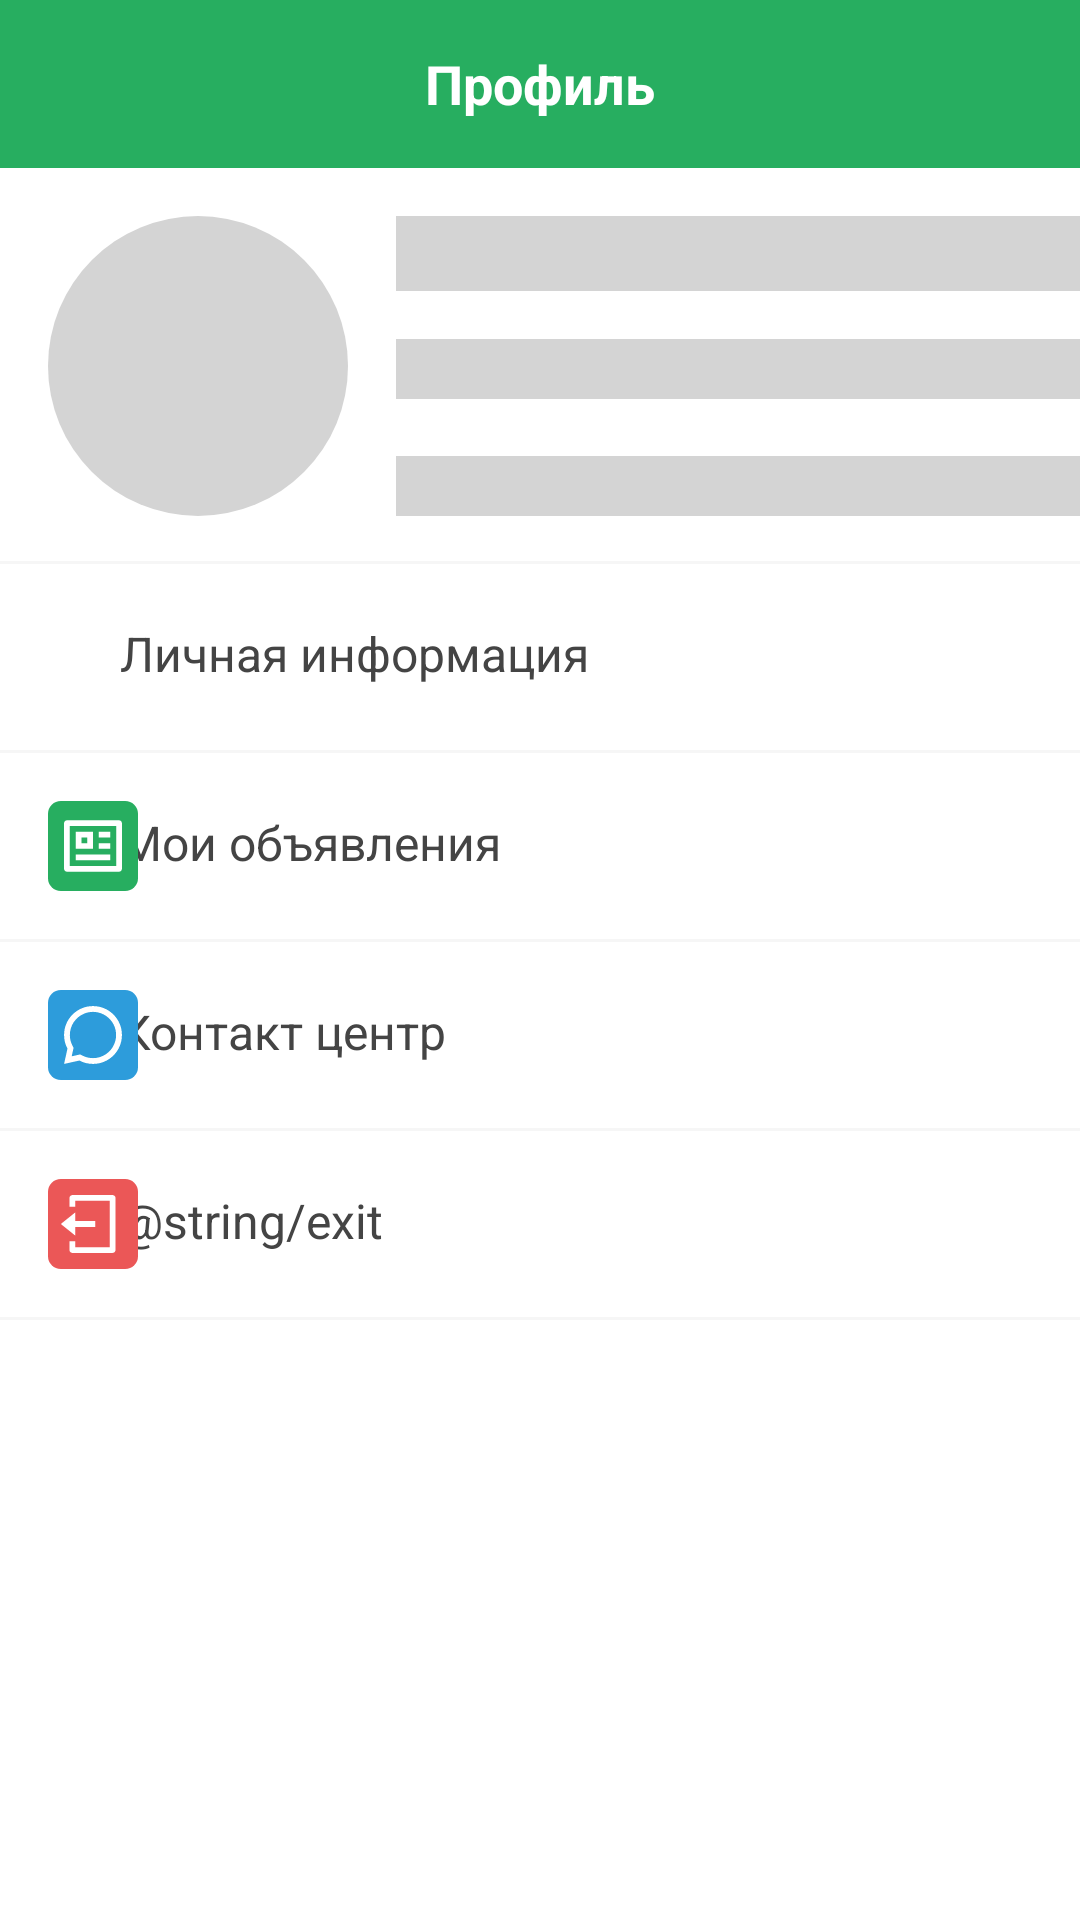

Icon bounding boxes for this 1080px×1920px phone screenshot, format (x1, y1, x2, y2):
ads: (48, 801, 138, 891)
contact center: (48, 990, 138, 1080)
